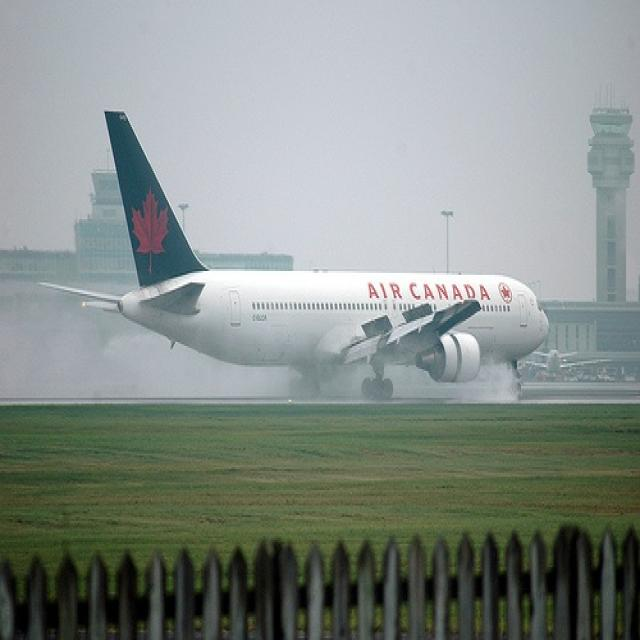aeroplane: (39, 104, 556, 407)
